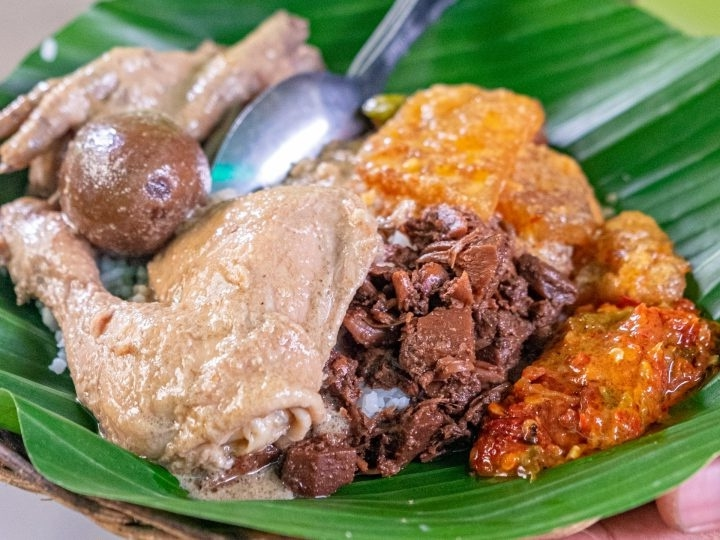gudeg: (1, 82, 720, 494)
